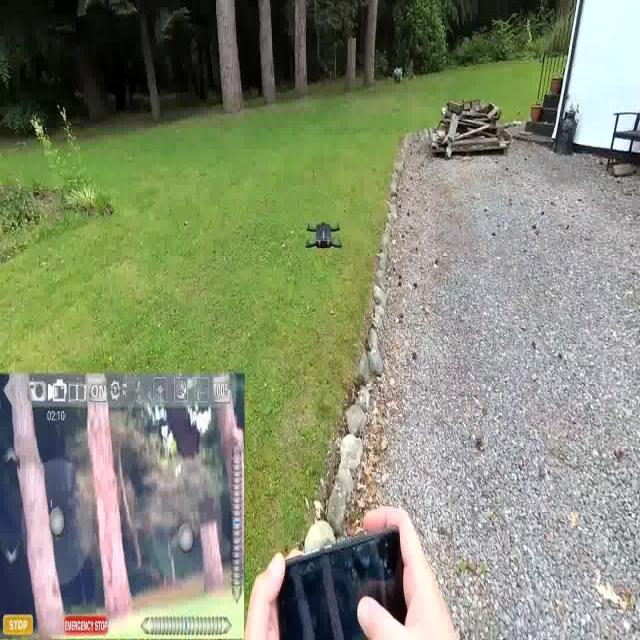drone: (305, 220, 343, 254)
